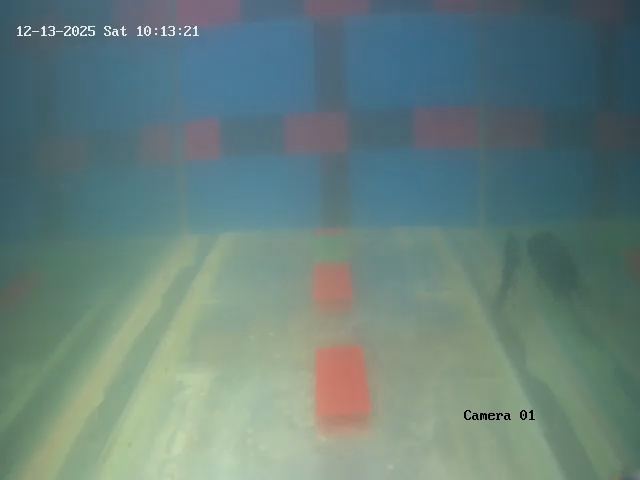fish: (488, 235, 522, 323)
